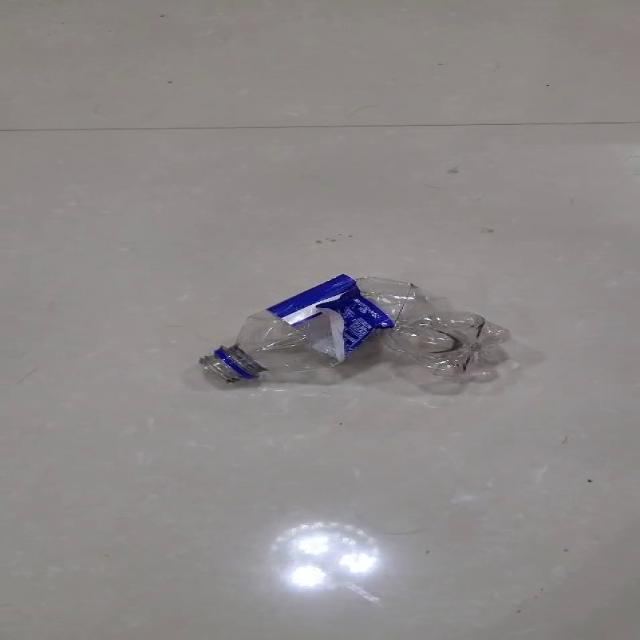plastic: (197, 273, 396, 383)
